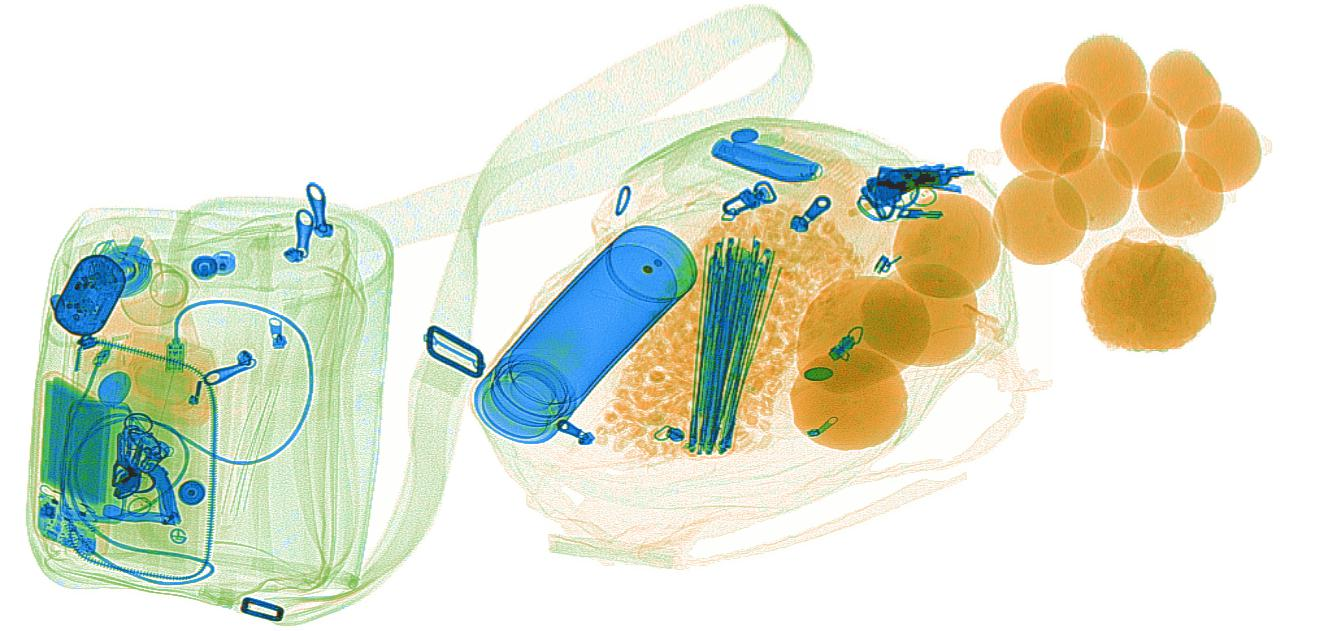knife: (710, 135, 825, 183)
